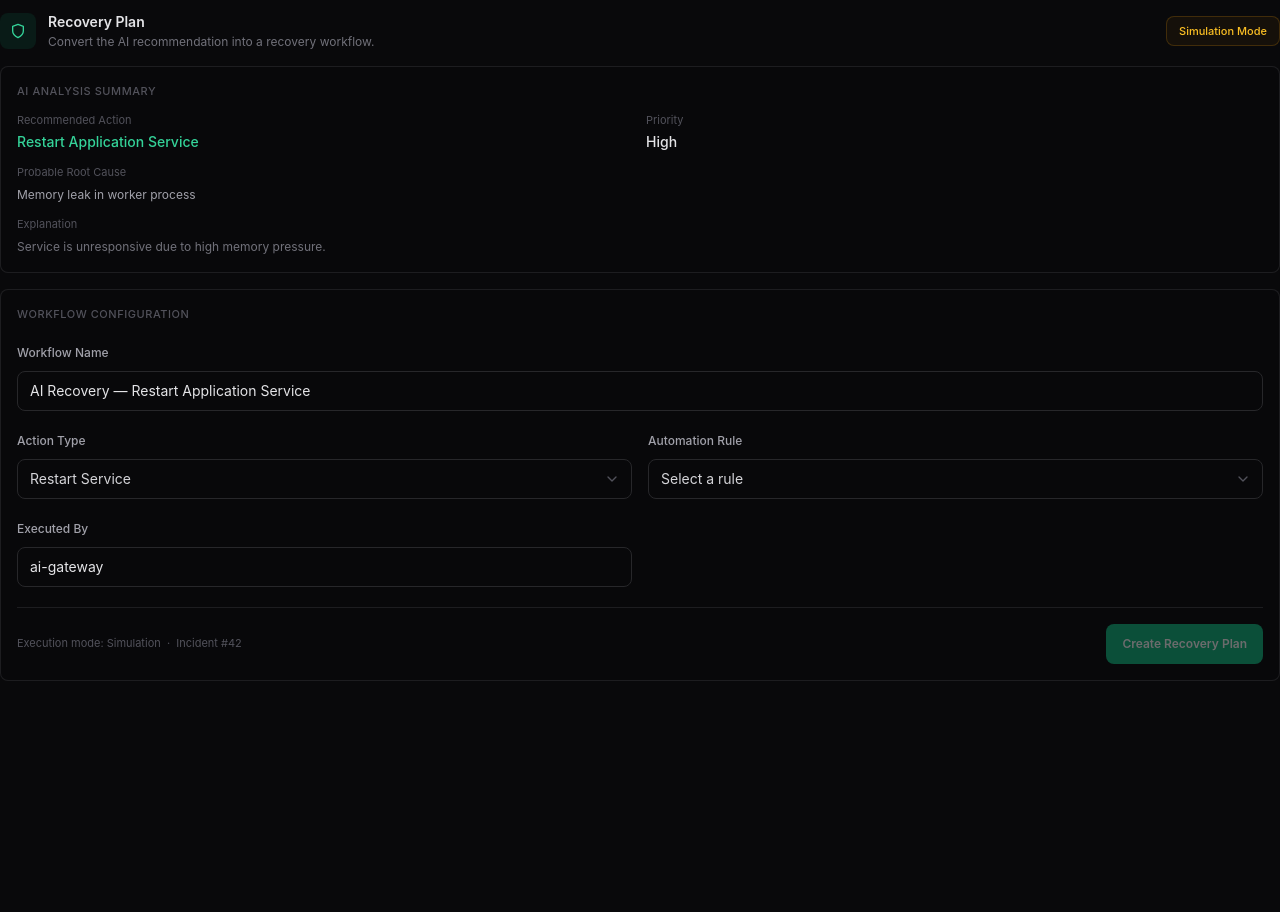
Test case: AIRecoveryPanel › shows fallback error message when creation fails without structured response
Select "#1 — High CPU Rule" in the dropdown below "Automation Rule" at (956,478), box x1=648 y1=458 x2=1263 y2=498
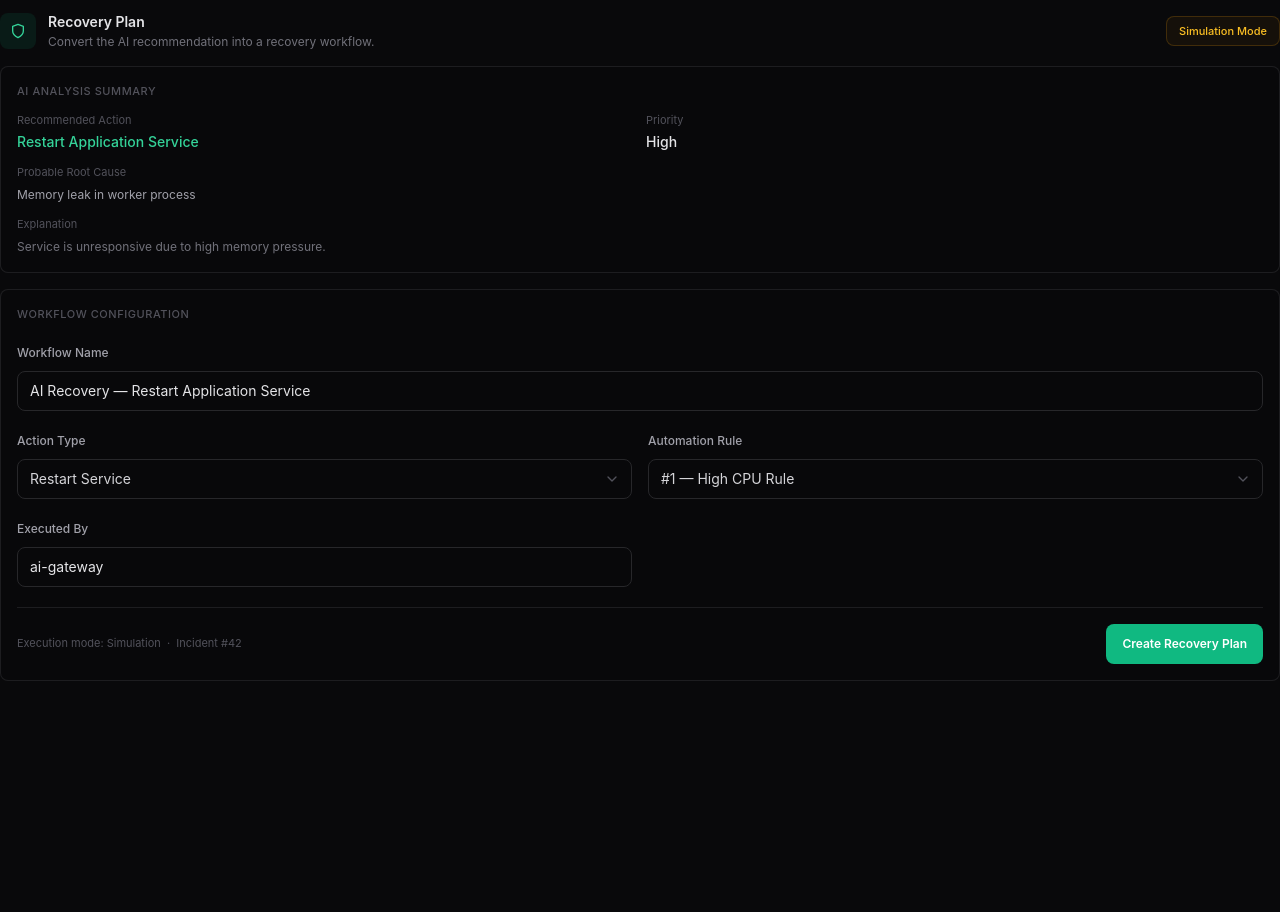
Click the button "Create Recovery Plan" at (1185,644), box x1=1106 y1=624 x2=1263 y2=664
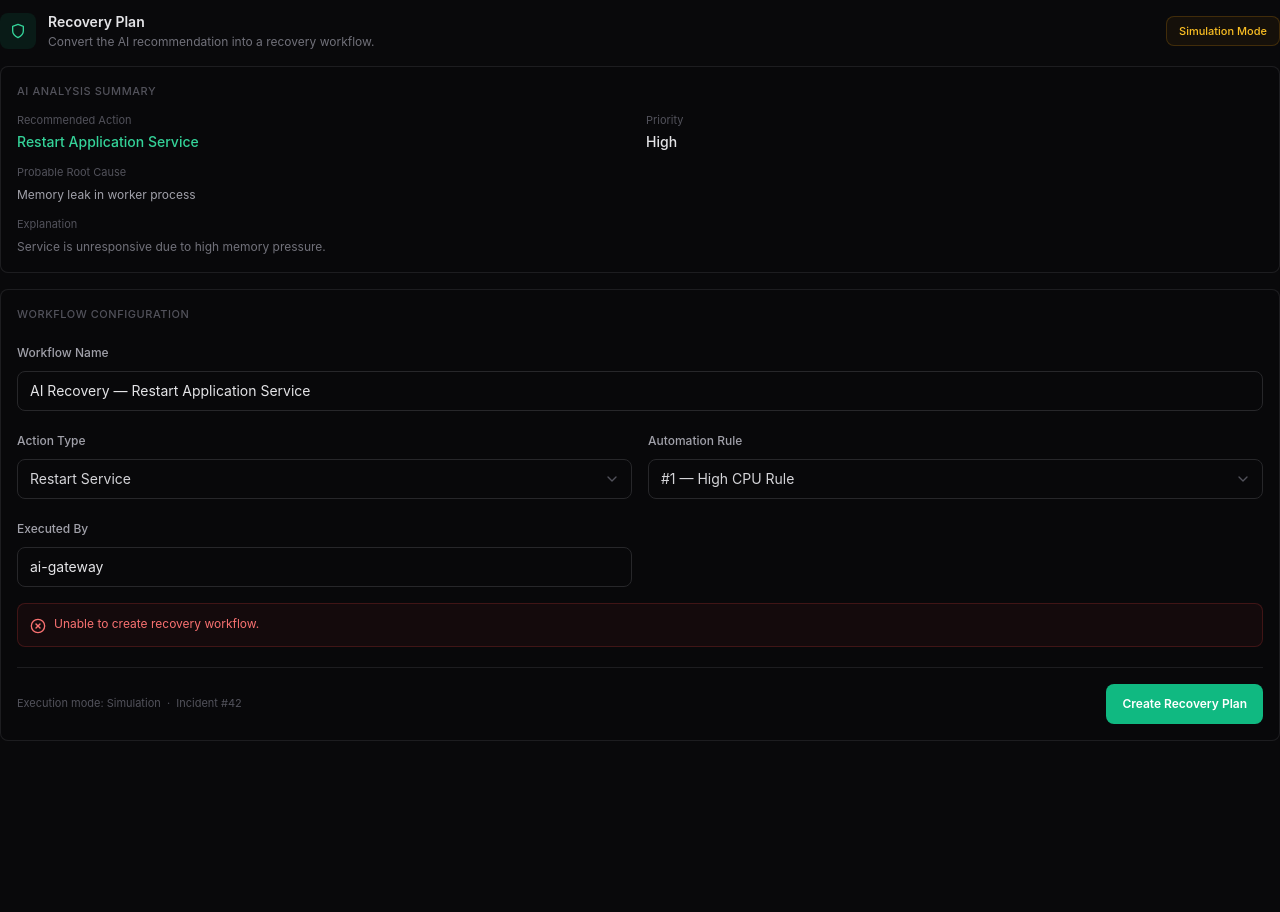
Expected: the text "Unable to create recovery workflow." is shown, x1=54 y1=616 x2=259 y2=632
